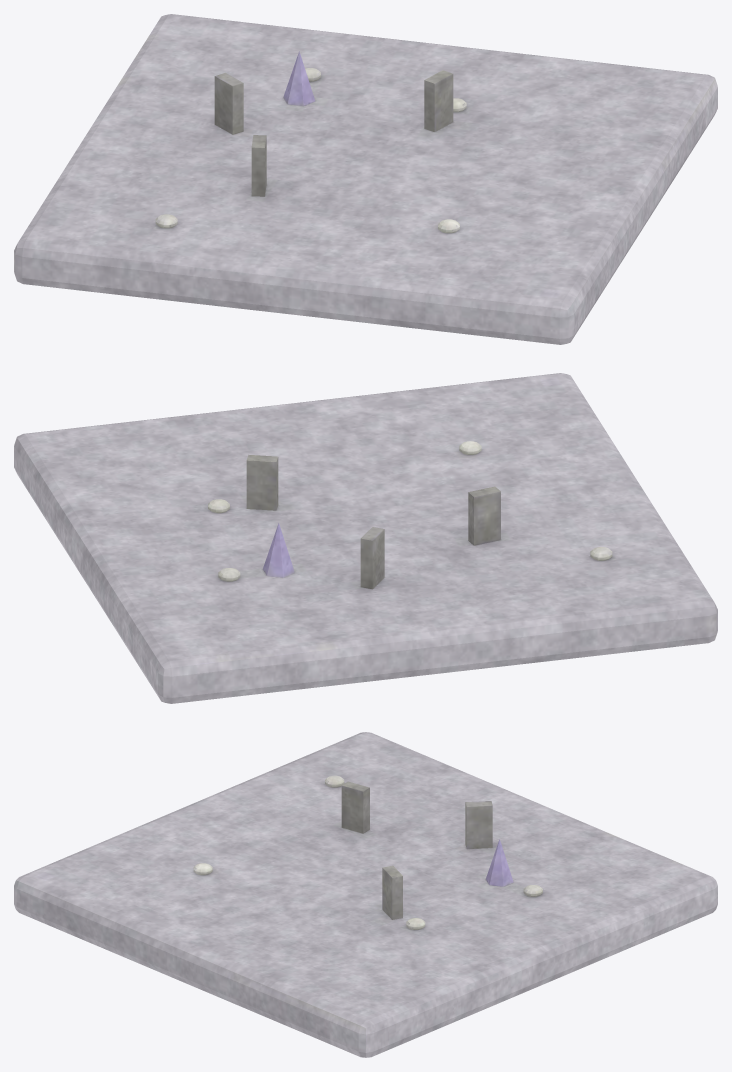
The model's file is vhorren_plains.glb.
3 views of the same model, one above another, from view 1: azimuth 30°, elevation 25°; view 2: azimuth 150°, elevation 25°; view 3: azimuth 270°, elevation 25° (orthographic). The views are drawn at different scales.
Parts seen in each view (by area): view 1: dilek; view 2: dilek; view 3: dilek.
Part boxes in pixels (x1,y1,x2,y2): dilek: (14,14,717,344); dilek: (14,373,717,703); dilek: (14,732,717,1057).
Size of the model in its own units: 2.42 by 0.3 by 2.42.
1 material, 1 textured.
